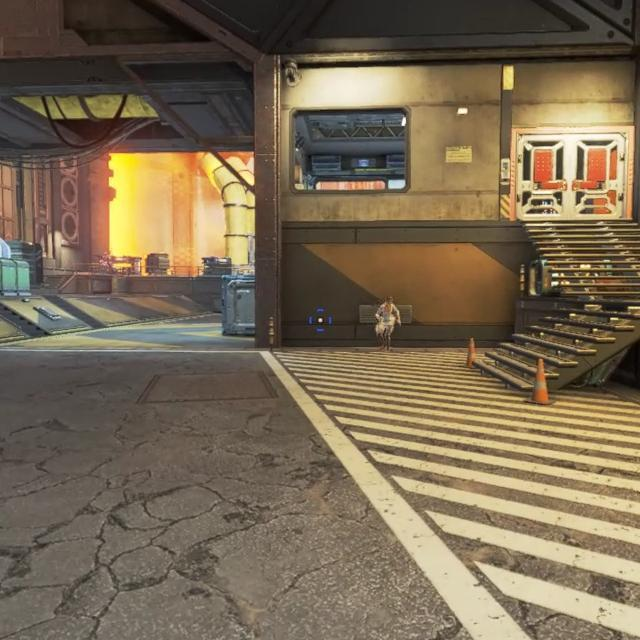avatar: (374, 294, 402, 352)
